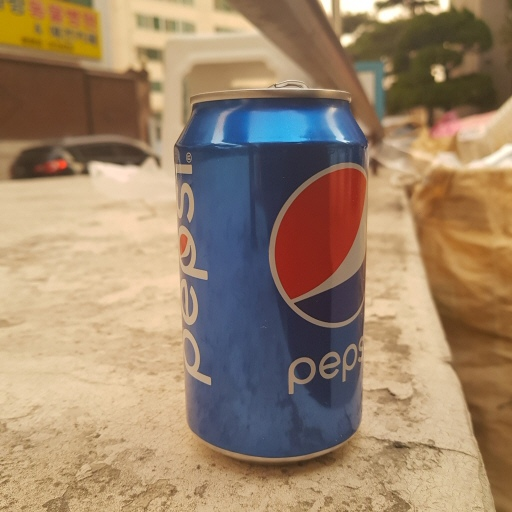Metal_0: (164, 78, 374, 466)
